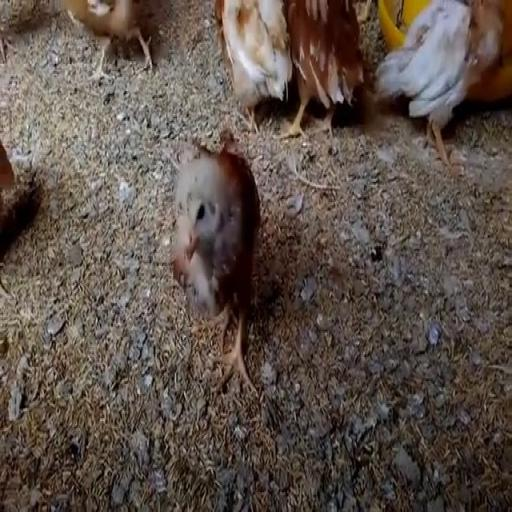disease: (183, 186, 219, 243)
